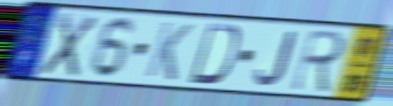6: (90, 15, 136, 81)
D: (186, 21, 243, 87)
J: (254, 30, 298, 88)
K: (143, 19, 195, 83)
R: (288, 27, 349, 96)
X: (37, 10, 100, 80)
